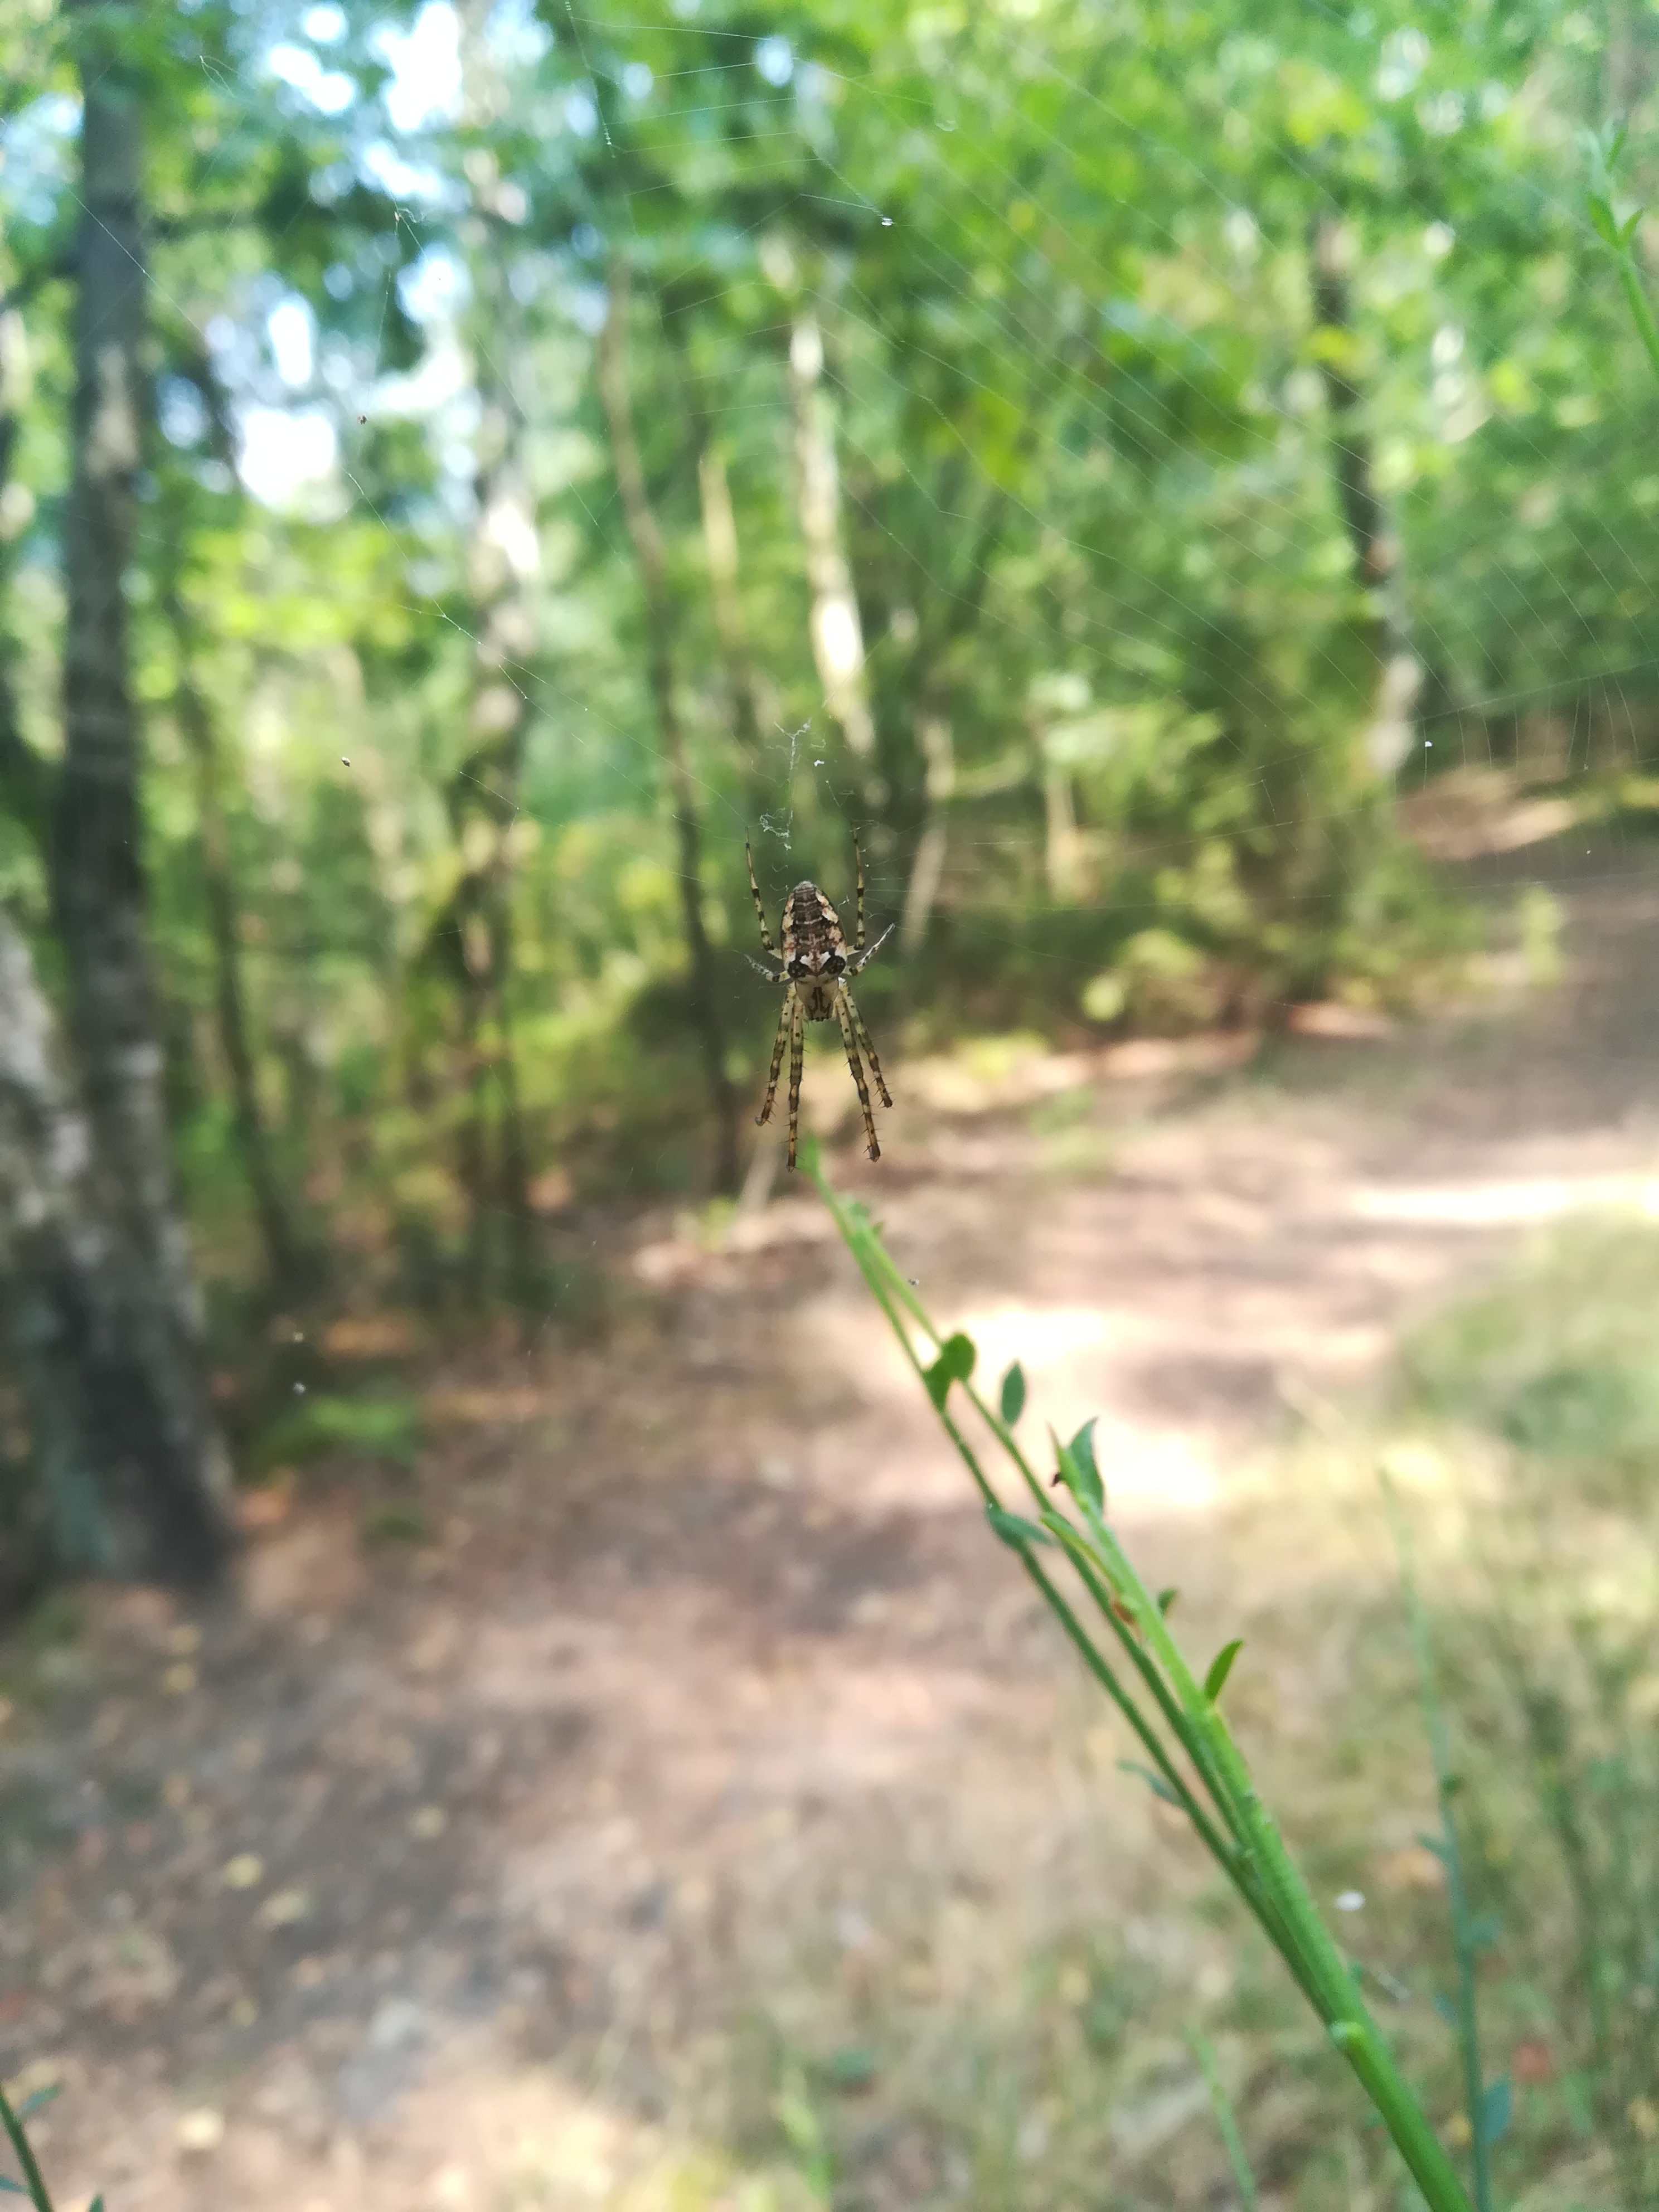spider: (673, 791, 958, 1197)
